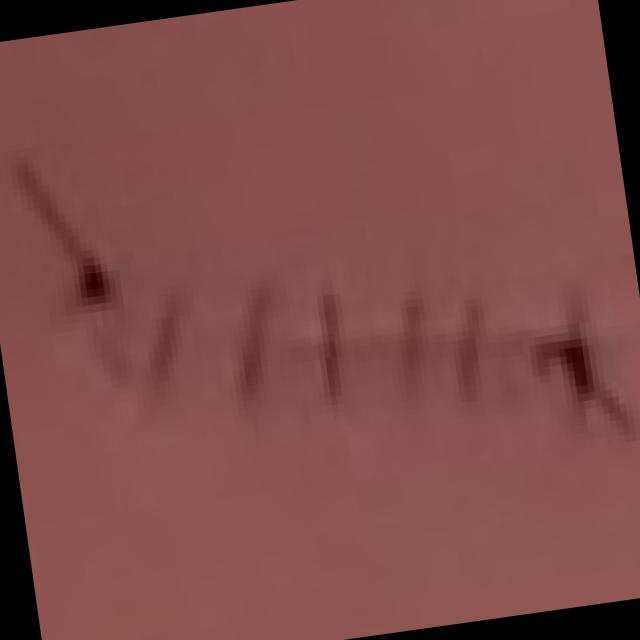suture: (19, 164, 117, 305), (537, 331, 636, 441), (241, 287, 277, 406), (151, 300, 188, 395), (323, 295, 348, 401), (404, 298, 428, 401), (460, 305, 486, 398)
